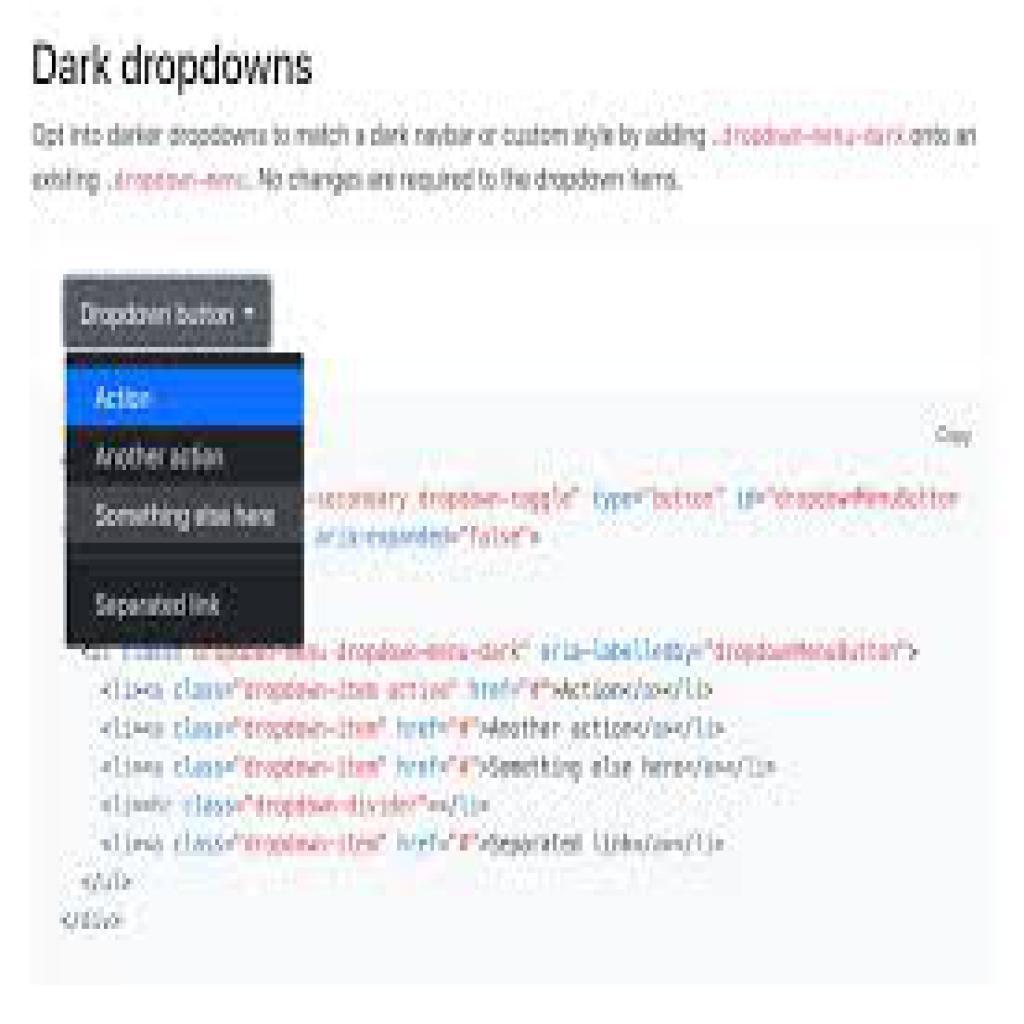dropdown: (61, 278, 269, 347)
